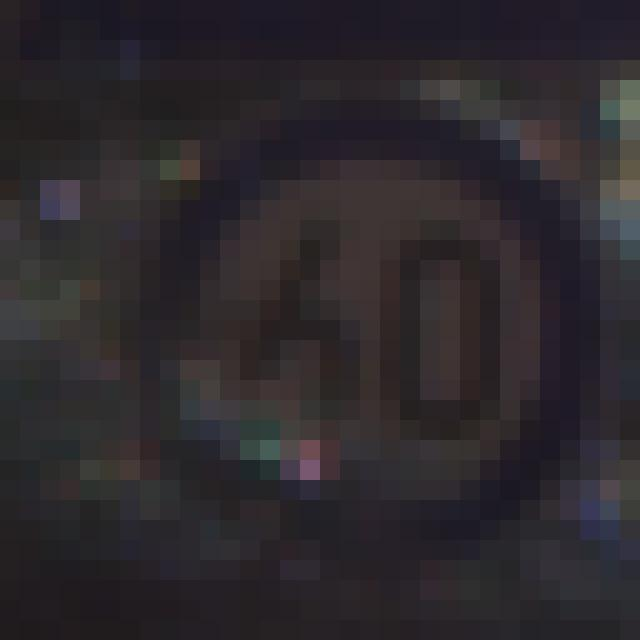SPEED-LIMIT-60: (134, 84, 599, 604)
